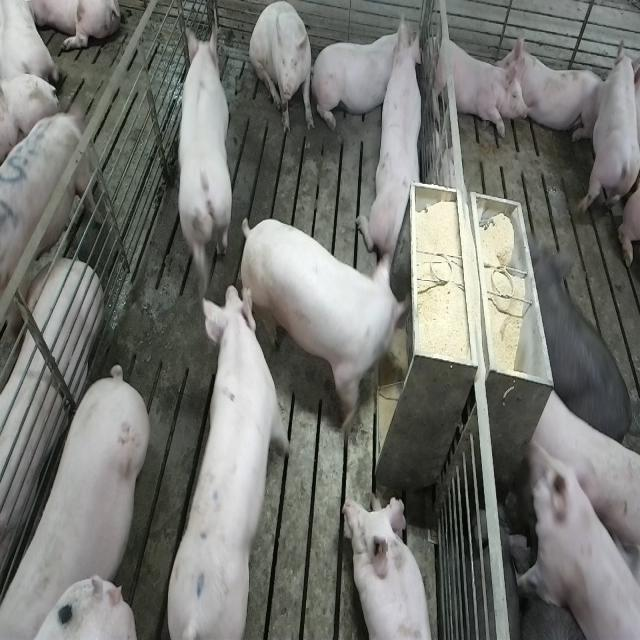Feeding: (234, 221, 411, 435)
Lateral_lying: (0, 259, 100, 600)
Sitting: (363, 14, 428, 267), (250, 3, 314, 138)
Standing: (166, 282, 294, 637), (5, 362, 154, 635), (522, 384, 638, 622), (0, 99, 95, 332), (179, 24, 236, 270)
Sternal_lying: (345, 492, 436, 640), (570, 36, 638, 224), (497, 28, 608, 143), (426, 24, 524, 144), (316, 19, 416, 125)
